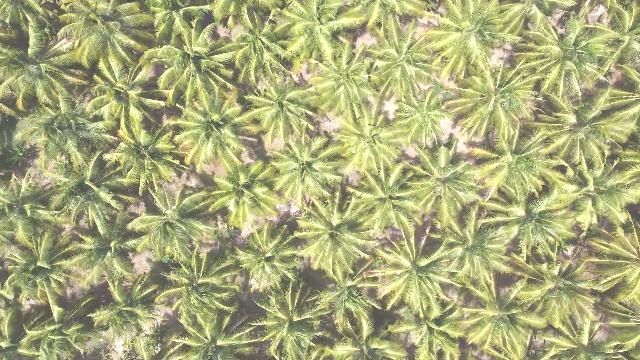trees: (152, 247, 251, 354), (20, 92, 123, 184), (37, 150, 138, 242), (533, 84, 638, 172), (510, 254, 611, 344), (149, 17, 239, 107), (520, 9, 609, 100), (50, 3, 155, 80), (423, 2, 524, 81), (294, 194, 380, 285), (8, 282, 108, 358), (343, 156, 428, 245), (452, 66, 542, 150), (249, 277, 339, 360), (469, 128, 561, 209), (369, 232, 455, 318), (129, 185, 217, 268), (434, 209, 519, 294), (169, 89, 251, 173), (496, 186, 580, 267), (312, 42, 388, 130), (106, 117, 186, 200), (87, 270, 168, 351), (563, 151, 639, 235), (363, 24, 440, 106), (415, 148, 490, 229), (222, 6, 297, 86), (4, 223, 78, 303), (268, 138, 344, 215), (234, 223, 309, 301), (205, 159, 280, 234), (579, 226, 640, 317), (90, 59, 168, 127), (580, 4, 640, 87), (246, 79, 319, 147), (3, 55, 78, 120), (389, 84, 458, 153), (323, 307, 406, 359), (145, 3, 220, 53), (353, 3, 428, 34), (606, 3, 640, 42), (236, 28, 239, 30)
